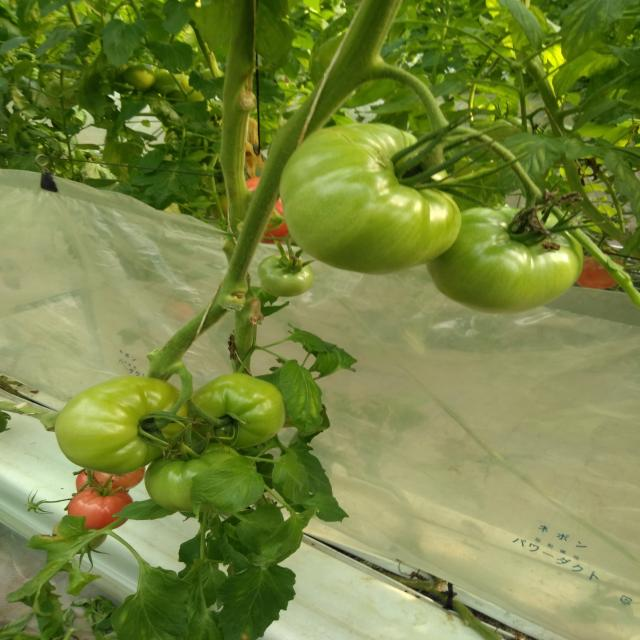yesil: (258, 103, 586, 314), (41, 372, 293, 502)
